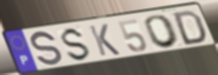5: (116, 17, 148, 53)
D: (173, 9, 209, 47)
K: (87, 23, 122, 58)
O: (143, 14, 182, 50)
S: (30, 29, 64, 69), (60, 26, 93, 63)
